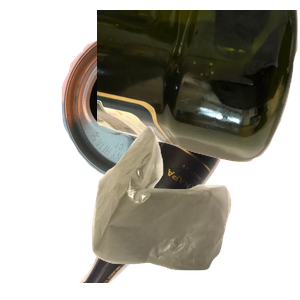glass: (66, 120, 279, 300)
metal: (59, 10, 273, 189)
plastic: (97, 10, 300, 165)
trash: (89, 124, 300, 300)
